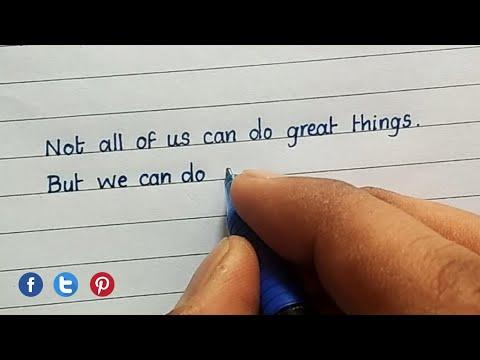text: (44, 112, 421, 159), (45, 160, 207, 196), (56, 275, 73, 295), (94, 276, 110, 296), (25, 277, 36, 294)
